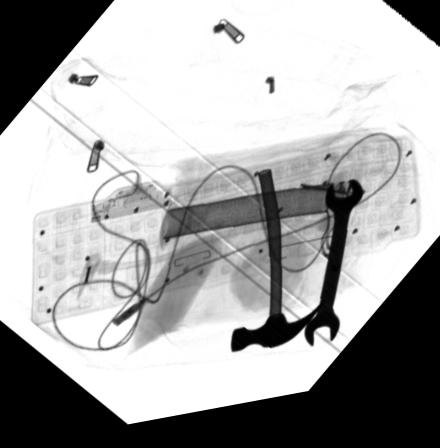Hammer: (230, 177, 322, 359)
Wrench: (303, 192, 362, 357)
